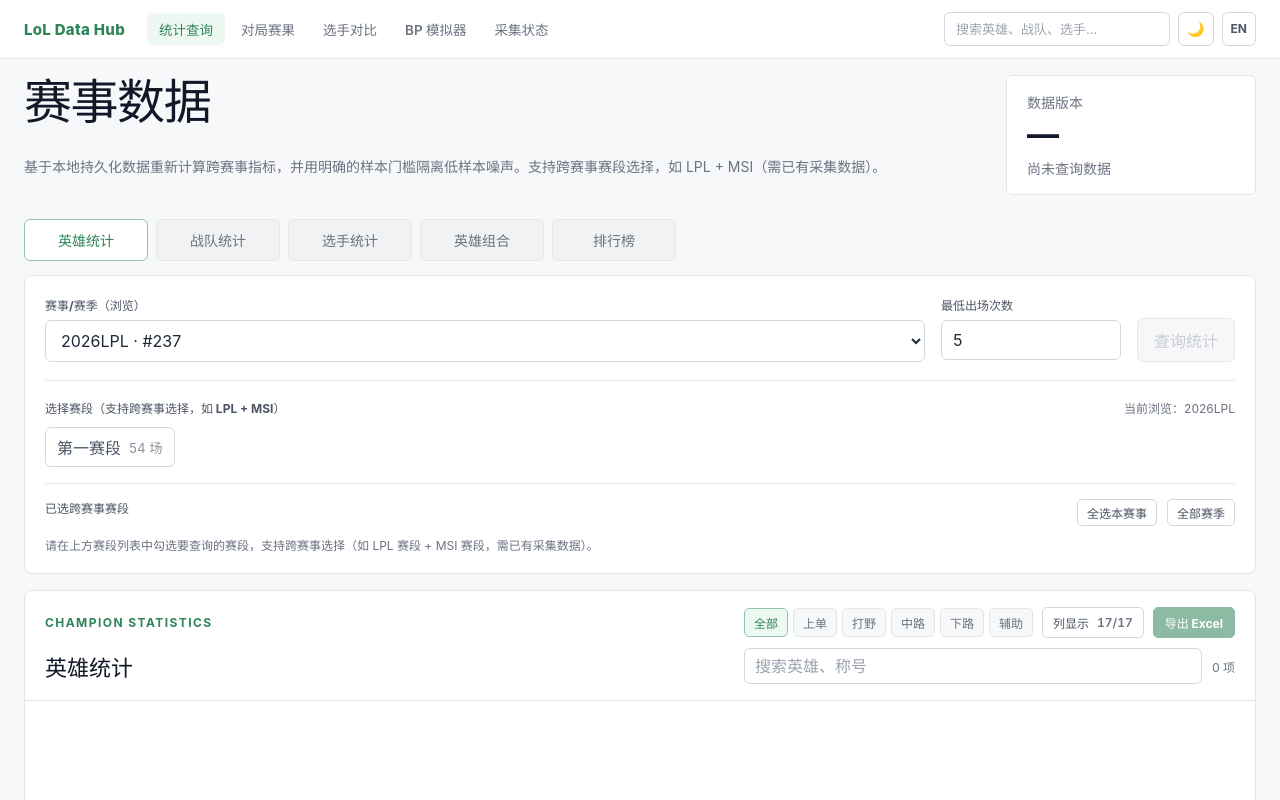
Test case: 查询状态 › 切换统计类型加载失败时不保留上一类型的赛段
Click the button with class "tab-btn" showing "选手统计".
click(350, 240)  # box [288,219,412,261]
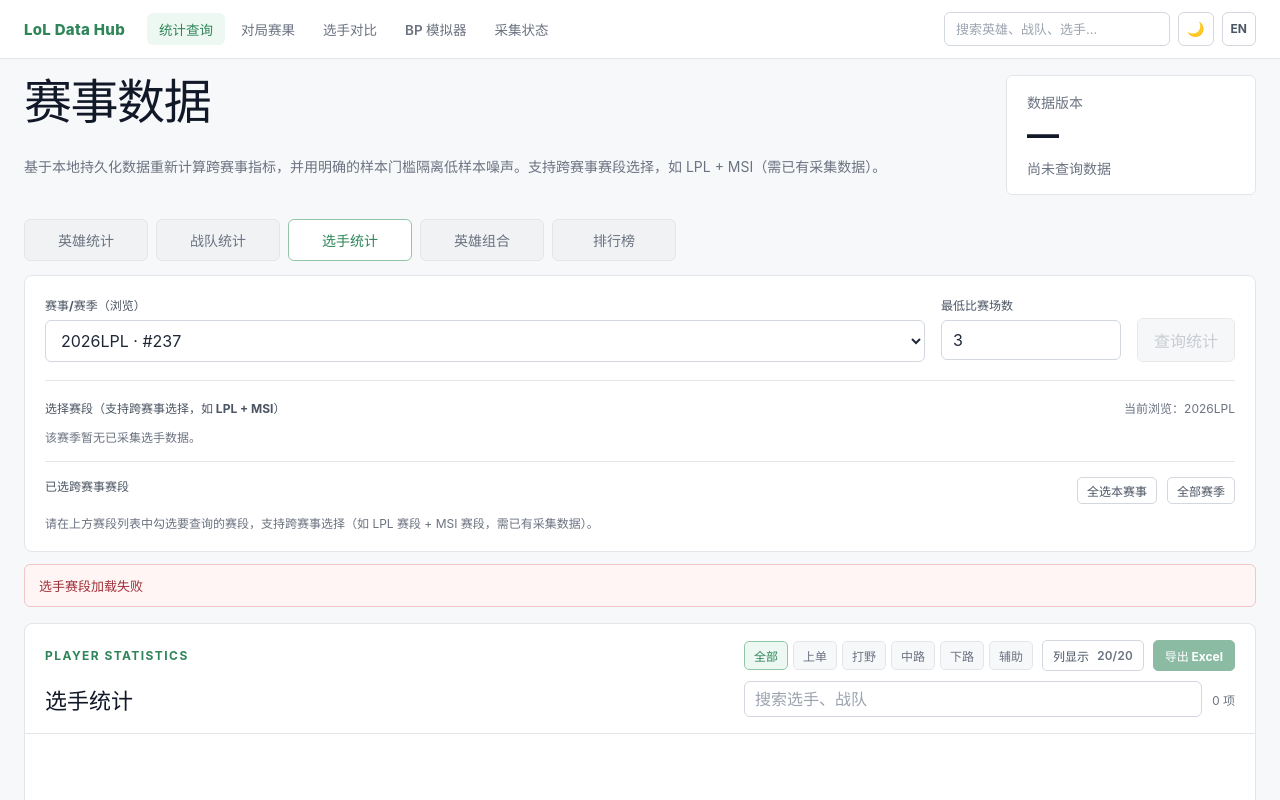
expect the button "查询统计" is disabled: met, box [1137,318,1235,362]
expect no buttons with class "stage-chip" are shown: met
expect the text "选手赛段加载失败" is shown: met, box [24,564,1256,607]
